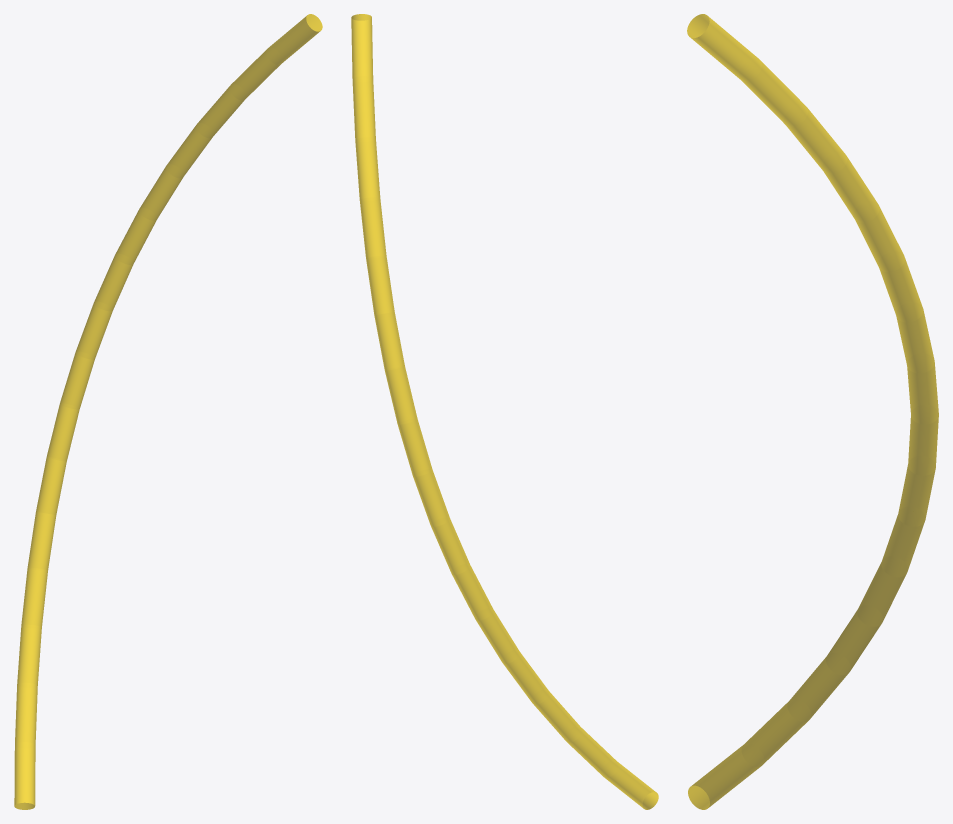
File: Event_419990632_track_94.fbx
3 renders of one model, left to right at view 1: azimuth 30°, elevation 25°; view 2: azimuth 150°, elevation 25°; view 3: azimuth 270°, elevation 25°, orthographic. The views are drawn at different scales.
Parts seen in each view (by area): view 1: Model; view 2: Model; view 3: Model.
Part boxes in pixels (<box>): Model: <box>14,14,322,809</box>; Model: <box>351,14,658,809</box>; Model: <box>687,14,938,809</box>.
Size of the model in its own units: 0.6812 by 1.55 by 0.3598.
